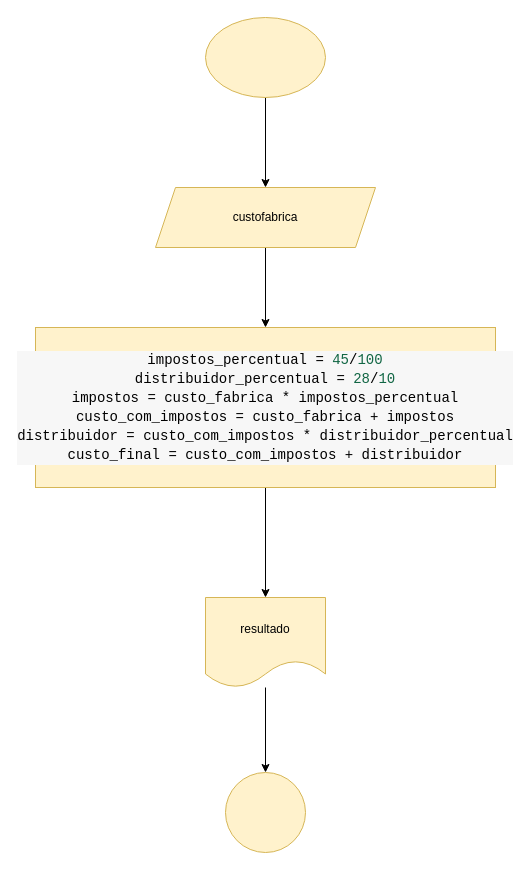
The diagram is 530 pixels wide and 870 high, and some of its shapes have lost their labels. The centre of each missing label's shape, as x and y in pixels:
"fim" belongs at [265,812].
"inicio" belongs at [265,57].
